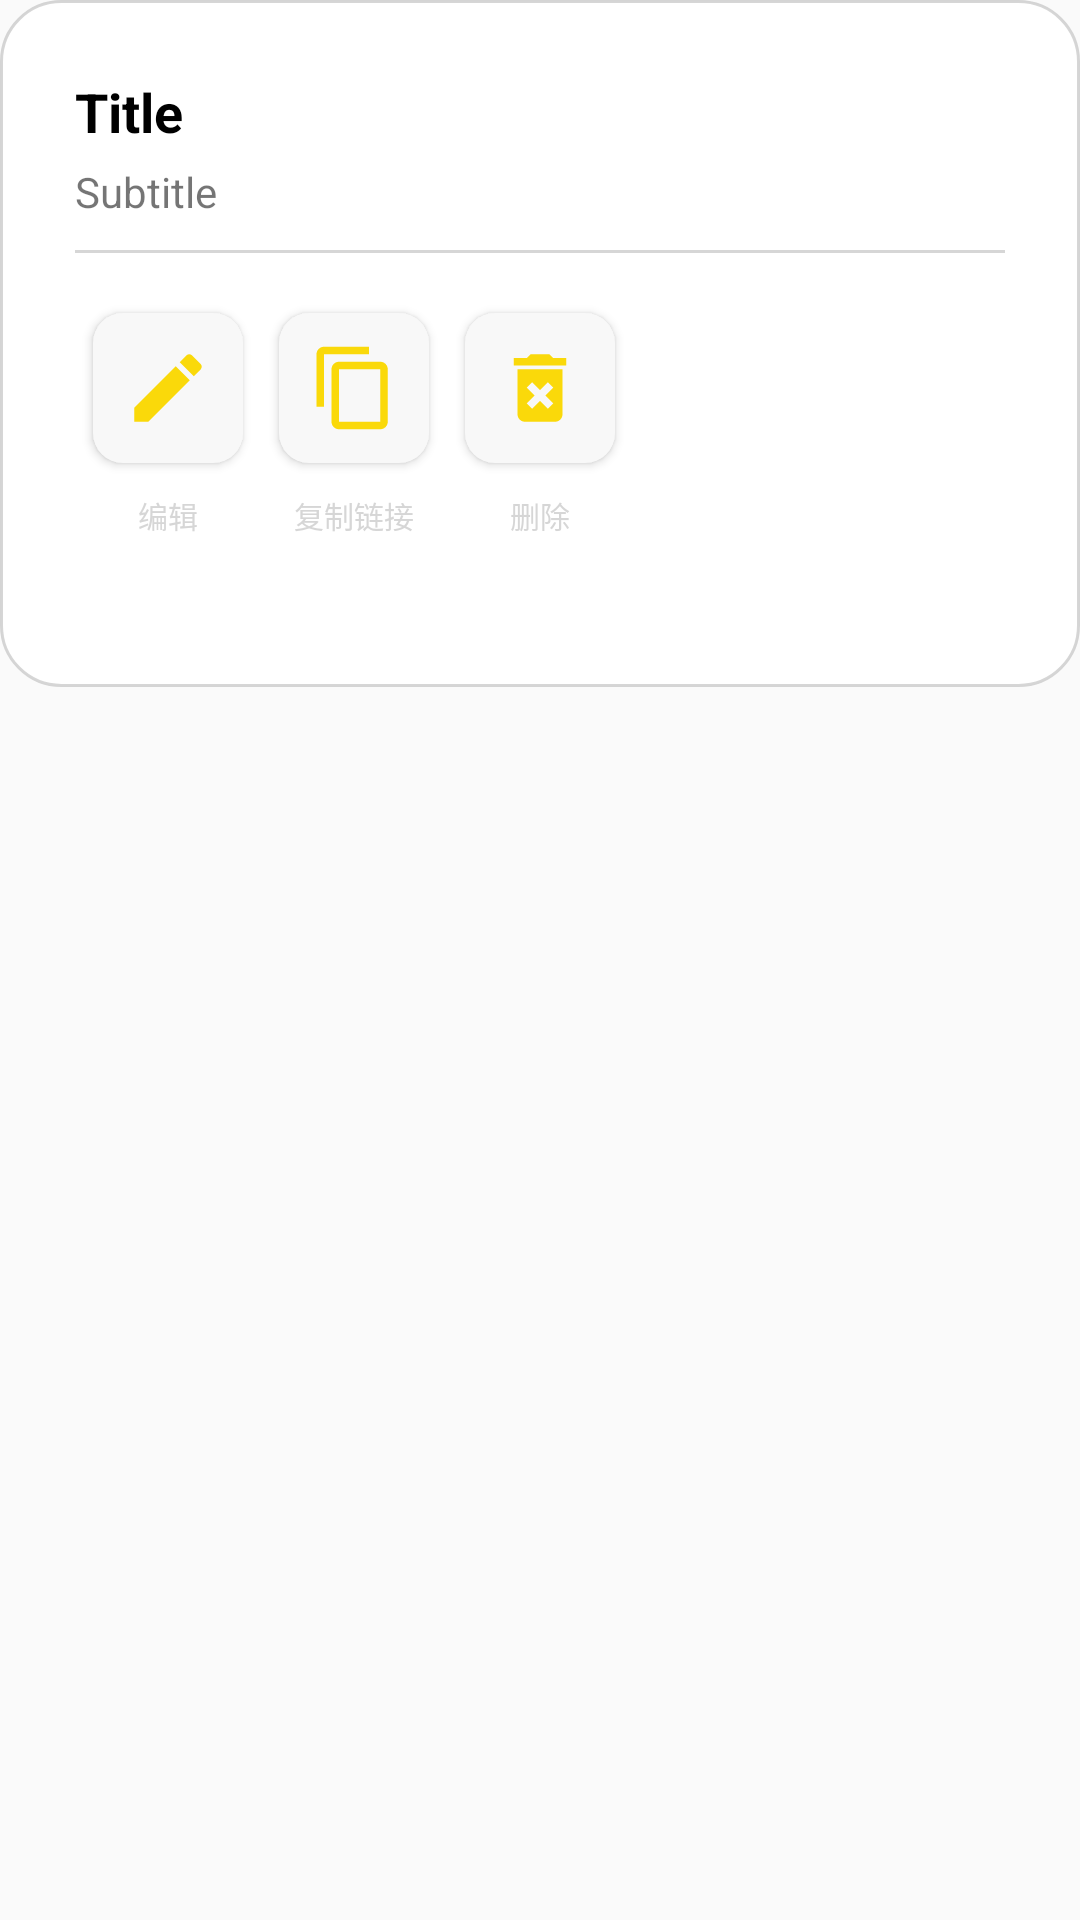

Icons on this 1080×1920 Android screen, each with the point to tap as (x=x, y=y):
delete: (x=540, y=388)
edit: (x=168, y=388)
